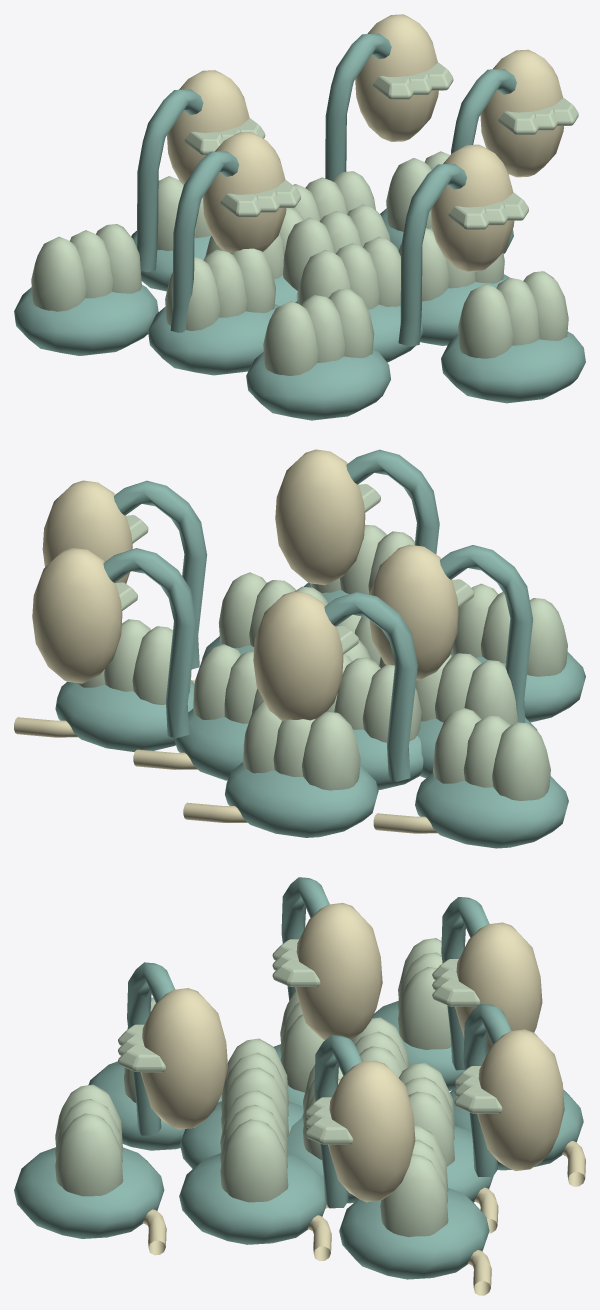
Rendered from bio_acid_mat_08_far.glb.
3 views of the same model, one above another, from view 1: azimuth 30°, elevation 25°; view 2: azimuth 150°, elevation 25°; view 3: azimuth 270°, elevation 25° (orthographic). The views are drawn at different scales.
Visible parts, largest first — view 1: Reaction vesicle.030, Reaction vesicle.027, Reaction vesicle.021, Microbial cushion.010, Microbial cushion.007, Microbial cushion.009, Pendant spore capsule.003, Pendant spore capsule.002, Pendant spore capsule, Pendant spore capsule.004, Reaction vesicle.012, Microbial cushion.004 (+21 smaller); view 2: Pendant spore capsule.003, Pendant spore capsule.002, Pendant spore capsule.001, Reaction vesicle.027, Microbial cushion.009, Microbial cushion.006, Pendant spore capsule.004, Reaction vesicle.018, Microbial cushion.008, Reaction vesicle.021, Arched fruit stem.003, Arched fruit stem.001 (+19 smaller); view 3: Pendant spore capsule.003, Pendant spore capsule, Pendant spore capsule.002, Pendant spore capsule.004, Microbial cushion.010, Microbial cushion.005, Microbial cushion.008, Pendant spore capsule.001, Reaction vesicle.015, Reaction vesicle.030, Reaction vesicle.024, Reaction vesicle.027 (+26 smaller).
Part boxes in pixels (x1=…): Reaction vesicle.030: x1=458, y1=271, x2=568, y2=358; Reaction vesicle.027: x1=31, y1=224, x2=141, y2=311; Reaction vesicle.021: x1=263, y1=288, x2=374, y2=375; Microbial cushion.010: x1=441, y1=331, x2=585, y2=403; Microbial cushion.007: x1=246, y1=349, x2=390, y2=420; Microbial cushion.009: x1=14, y1=285, x2=158, y2=355; Pendant spore capsule.003: x1=355, y1=14, x2=438, y2=141; Pendant spore capsule.002: x1=430, y1=144, x2=514, y2=272; Pendant spore capsule: x1=480, y1=49, x2=563, y2=177; Pendant spore capsule.004: x1=202, y1=132, x2=286, y2=253; Reaction vesicle.012: x1=165, y1=248, x2=275, y2=330; Microbial cushion.004: x1=148, y1=304, x2=279, y2=375; Pendant spore capsule.003: x1=32, y1=548, x2=122, y2=683; Pendant spore capsule.002: x1=275, y1=449, x2=365, y2=585; Pendant spore capsule.001: x1=253, y1=591, x2=343, y2=720; Reaction vesicle.027: x1=433, y1=708, x2=550, y2=800; Microbial cushion.009: x1=415, y1=772, x2=568, y2=848; Microbial cushion.006: x1=225, y1=762, x2=378, y2=837; Pendant spore capsule.004: x1=369, y1=544, x2=458, y2=680; Reaction vesicle.018: x1=243, y1=701, x2=360, y2=790; Microbial cushion.008: x1=55, y1=680, x2=194, y2=751; Reaction vesicle.021: x1=451, y1=583, x2=567, y2=676; Arched fruit stem.003: x1=103, y1=548, x2=196, y2=738; Arched fruit stem.001: x1=324, y1=591, x2=417, y2=781; Pendant spore capsule.003: x1=477, y1=1029, x2=564, y2=1170; Pendant spore capsule: x1=328, y1=1060, x2=415, y2=1202; Pendant spore capsule.002: x1=140, y1=988, x2=227, y2=1129; Pendant spore capsule.004: x1=295, y1=902, x2=382, y2=1040; Microbial cushion.010: x1=14, y1=1147, x2=164, y2=1238; Microbial cushion.005: x1=179, y1=1153, x2=326, y2=1244; Microbial cushion.008: x1=339, y1=1188, x2=489, y2=1279; Pendant spore capsule.001: x1=455, y1=922, x2=542, y2=1053; Reaction vesicle.015: x1=220, y1=1090, x2=288, y2=1202; Reaction vesicle.030: x1=55, y1=1084, x2=123, y2=1196; Reaction vesicle.024: x1=380, y1=1125, x2=448, y2=1237; Reaction vesicle.027: x1=398, y1=938, x2=451, y2=1049.
Size of the model in its own units: 1.9 by 0.7658 by 1.67.
